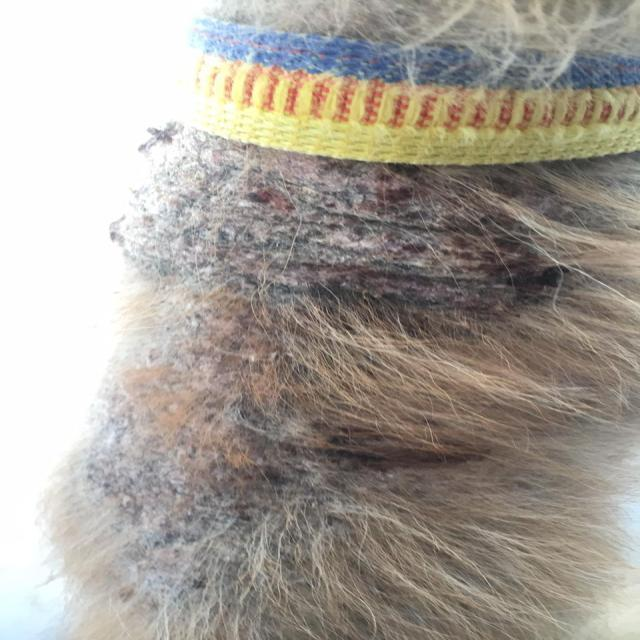demodicosis: (137, 156, 550, 299), (70, 399, 323, 562)
